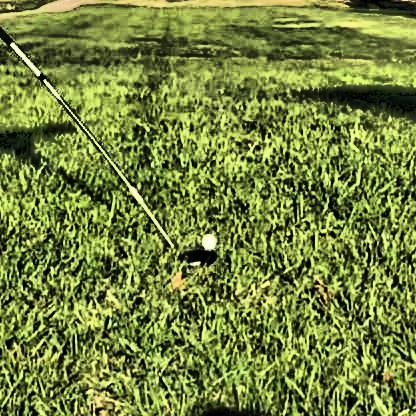golfball: (199, 231, 214, 248)
